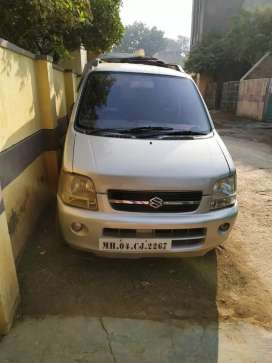license_plate: (99, 237, 171, 251)
